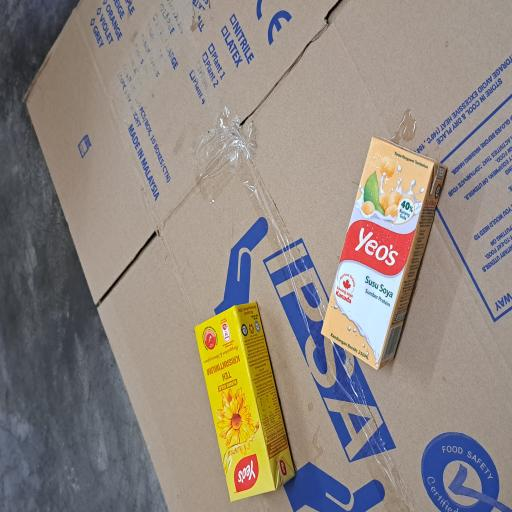cardboard: (0, 33, 384, 512), (2, 256, 158, 389)
